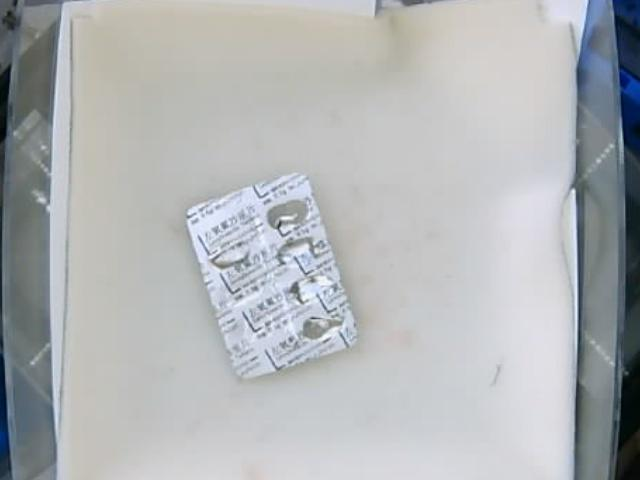Medicine: (182, 172, 356, 370)
